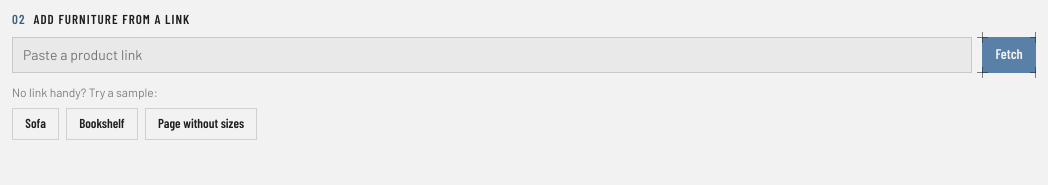
Test: AddFurnitureSection › shows a LookupError from the provider by its code message
This screenshot has width=1048, height=185.
Click the button "Sofa" at (36, 124), box [12,108,59,140]
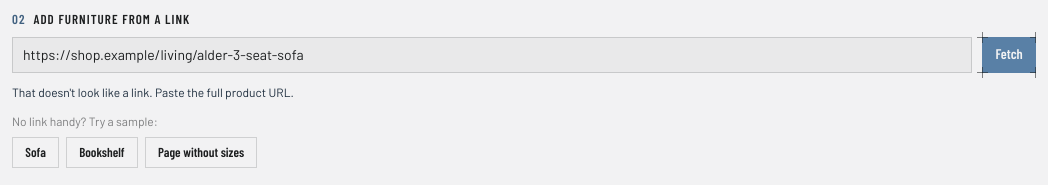
expect the message reads "That doesn't look like a link. Paste the full product URL.": met, box [12,85,294,99]
